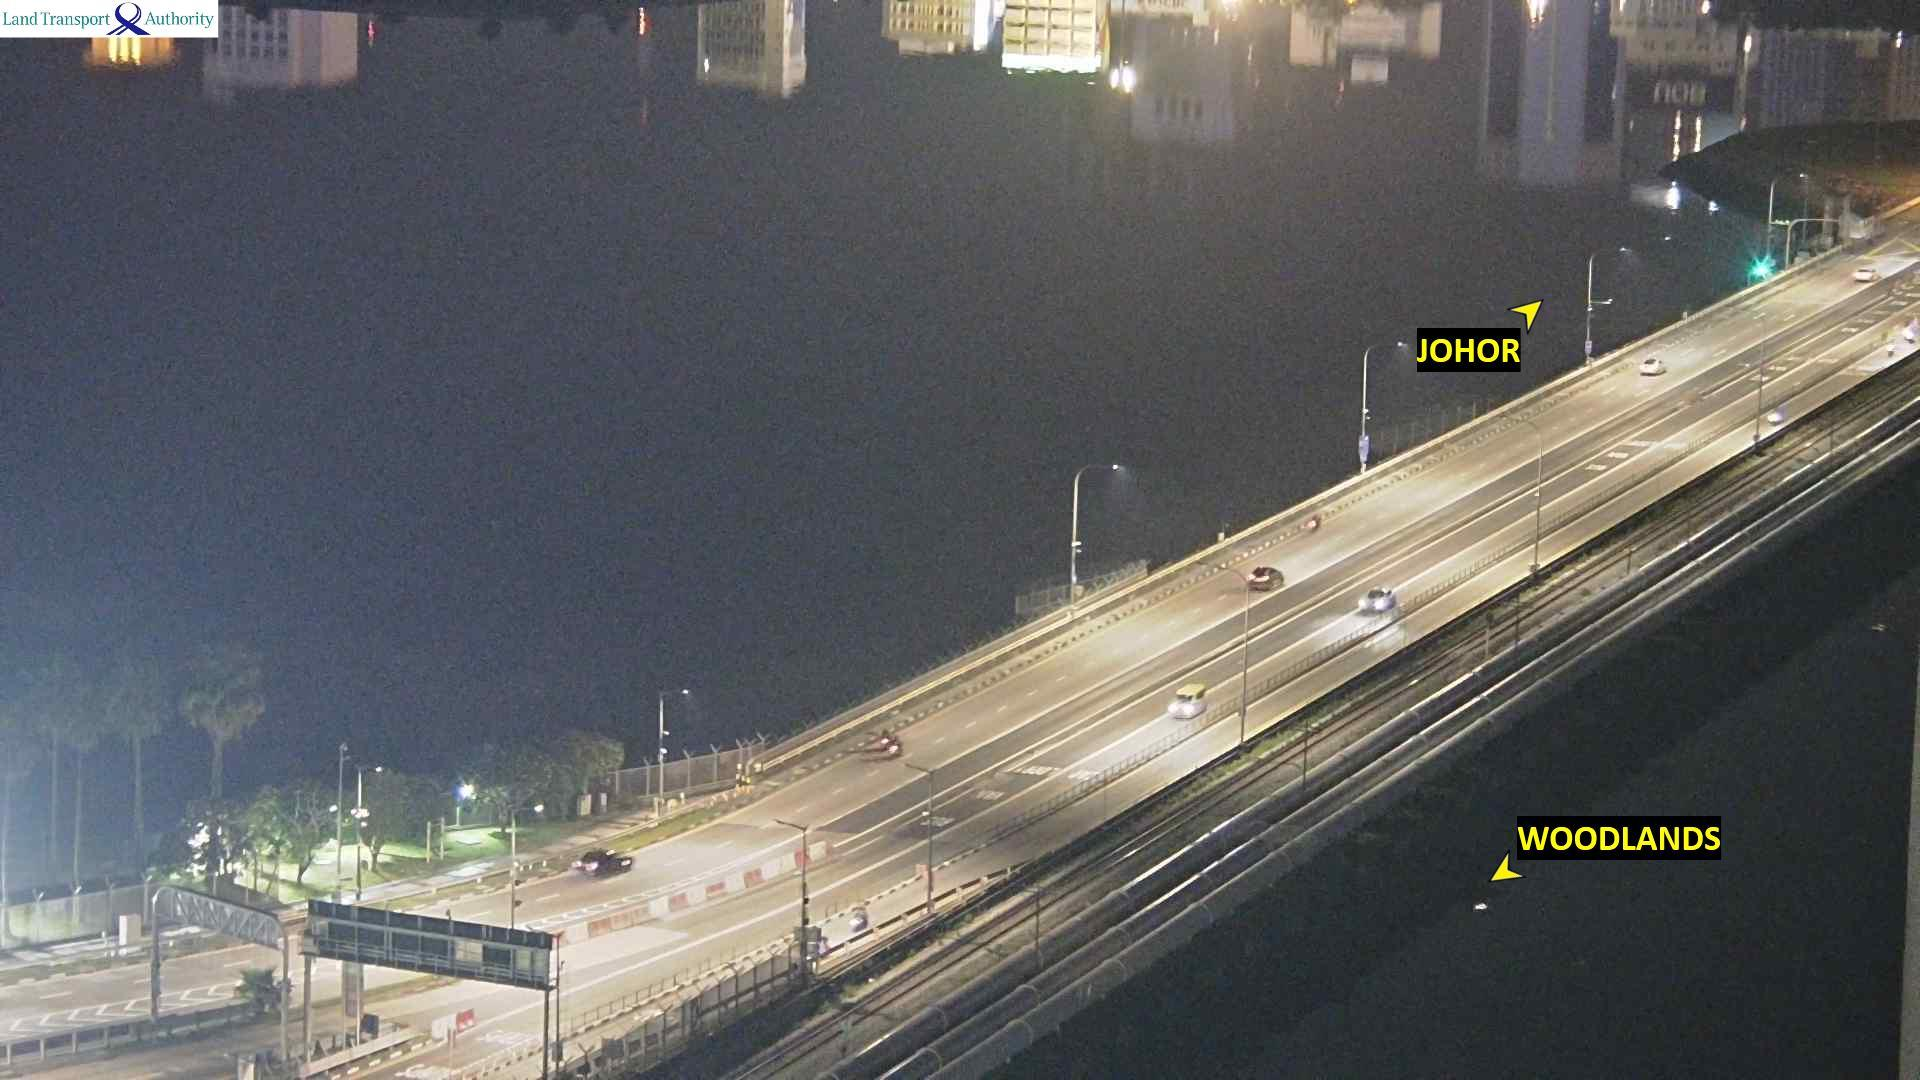vehicle-causeway-johor: (577, 852, 638, 879), (1247, 565, 1282, 590), (1856, 266, 1886, 284), (1640, 358, 1667, 374), (889, 737, 902, 755), (1307, 516, 1321, 531), (878, 731, 890, 744)
vehicle-causeway-singapore: (1168, 684, 1205, 717), (1362, 587, 1392, 611), (849, 898, 868, 930)
